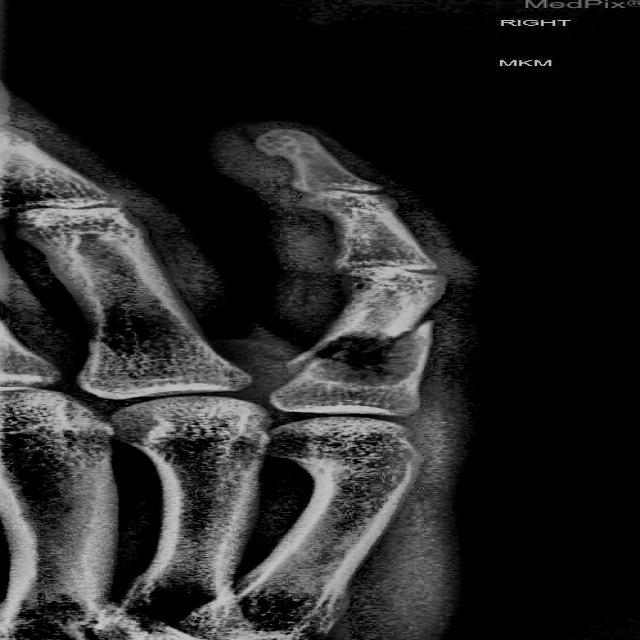fracture: (283, 318, 442, 388), (274, 455, 332, 477)
